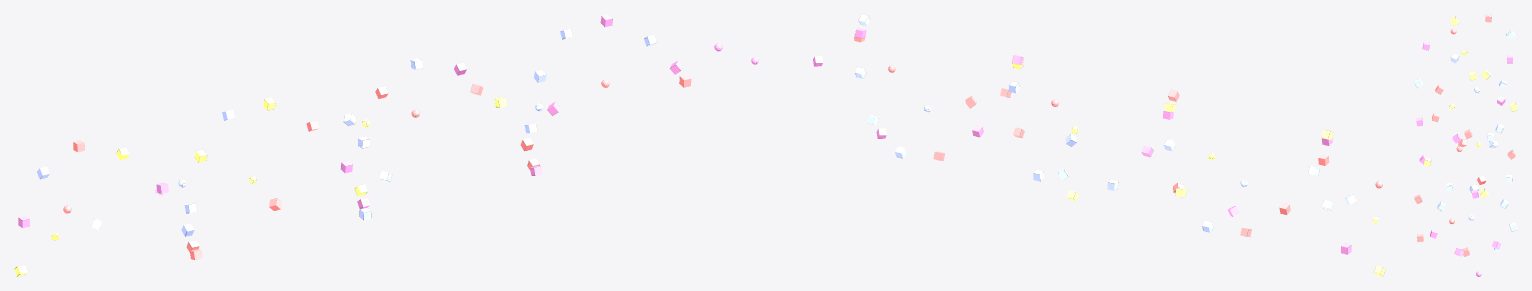
Rendered from geometry-background.glb.
3 views of the same model, side by side, from view 1: azimuth 30°, elevation 25°; view 2: azimuth 150°, elevation 25°; view 3: azimuth 270°, elevation 25° (orthographic). The views are drawn at different scales.
Bounding box in the file's own units: 190 × 33.97 × 34.1.
